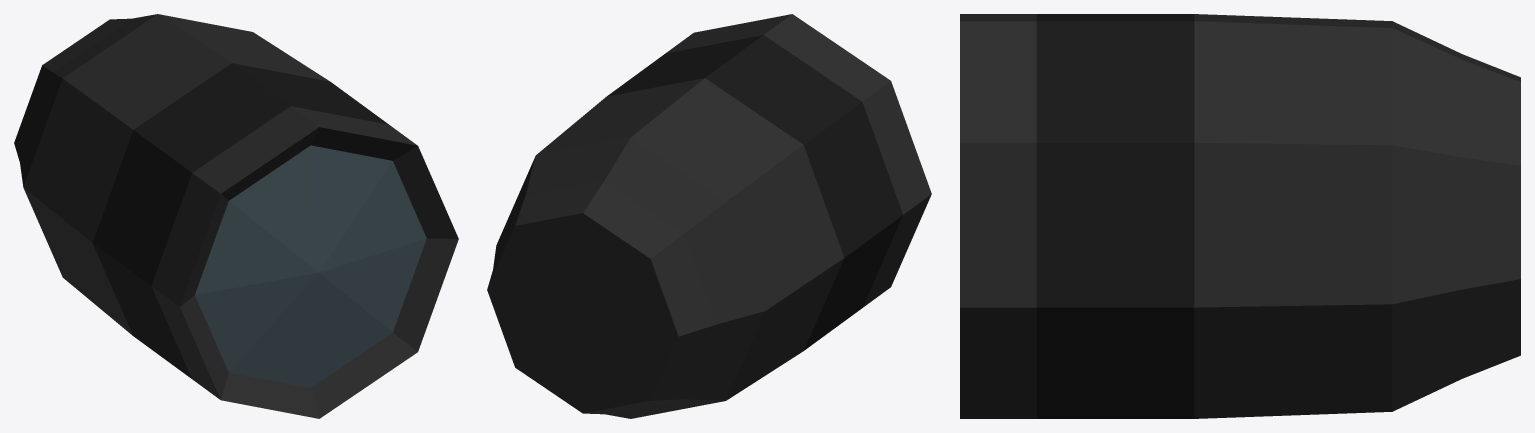
File: electronics_camera-dslr-objective-small.fbx
3 views of the same model, side by side, from view 1: azimuth 30°, elevation 25°; view 2: azimuth 150°, elevation 25°; view 3: azimuth 270°, elevation 25° (orthographic). The views are drawn at different scales.
Visible parts, largest first — view 1: electronics_camera_dslr_objective_small; view 2: electronics_camera_dslr_objective_small; view 3: electronics_camera_dslr_objective_small.
Part boxes in pixels (x1=…): electronics_camera_dslr_objective_small: x1=14, y1=14, x2=458, y2=418; electronics_camera_dslr_objective_small: x1=487, y1=14, x2=931, y2=418; electronics_camera_dslr_objective_small: x1=960, y1=14, x2=1520, y2=418.
Bounding box in the file's own units: 125 × 125 × 163.
